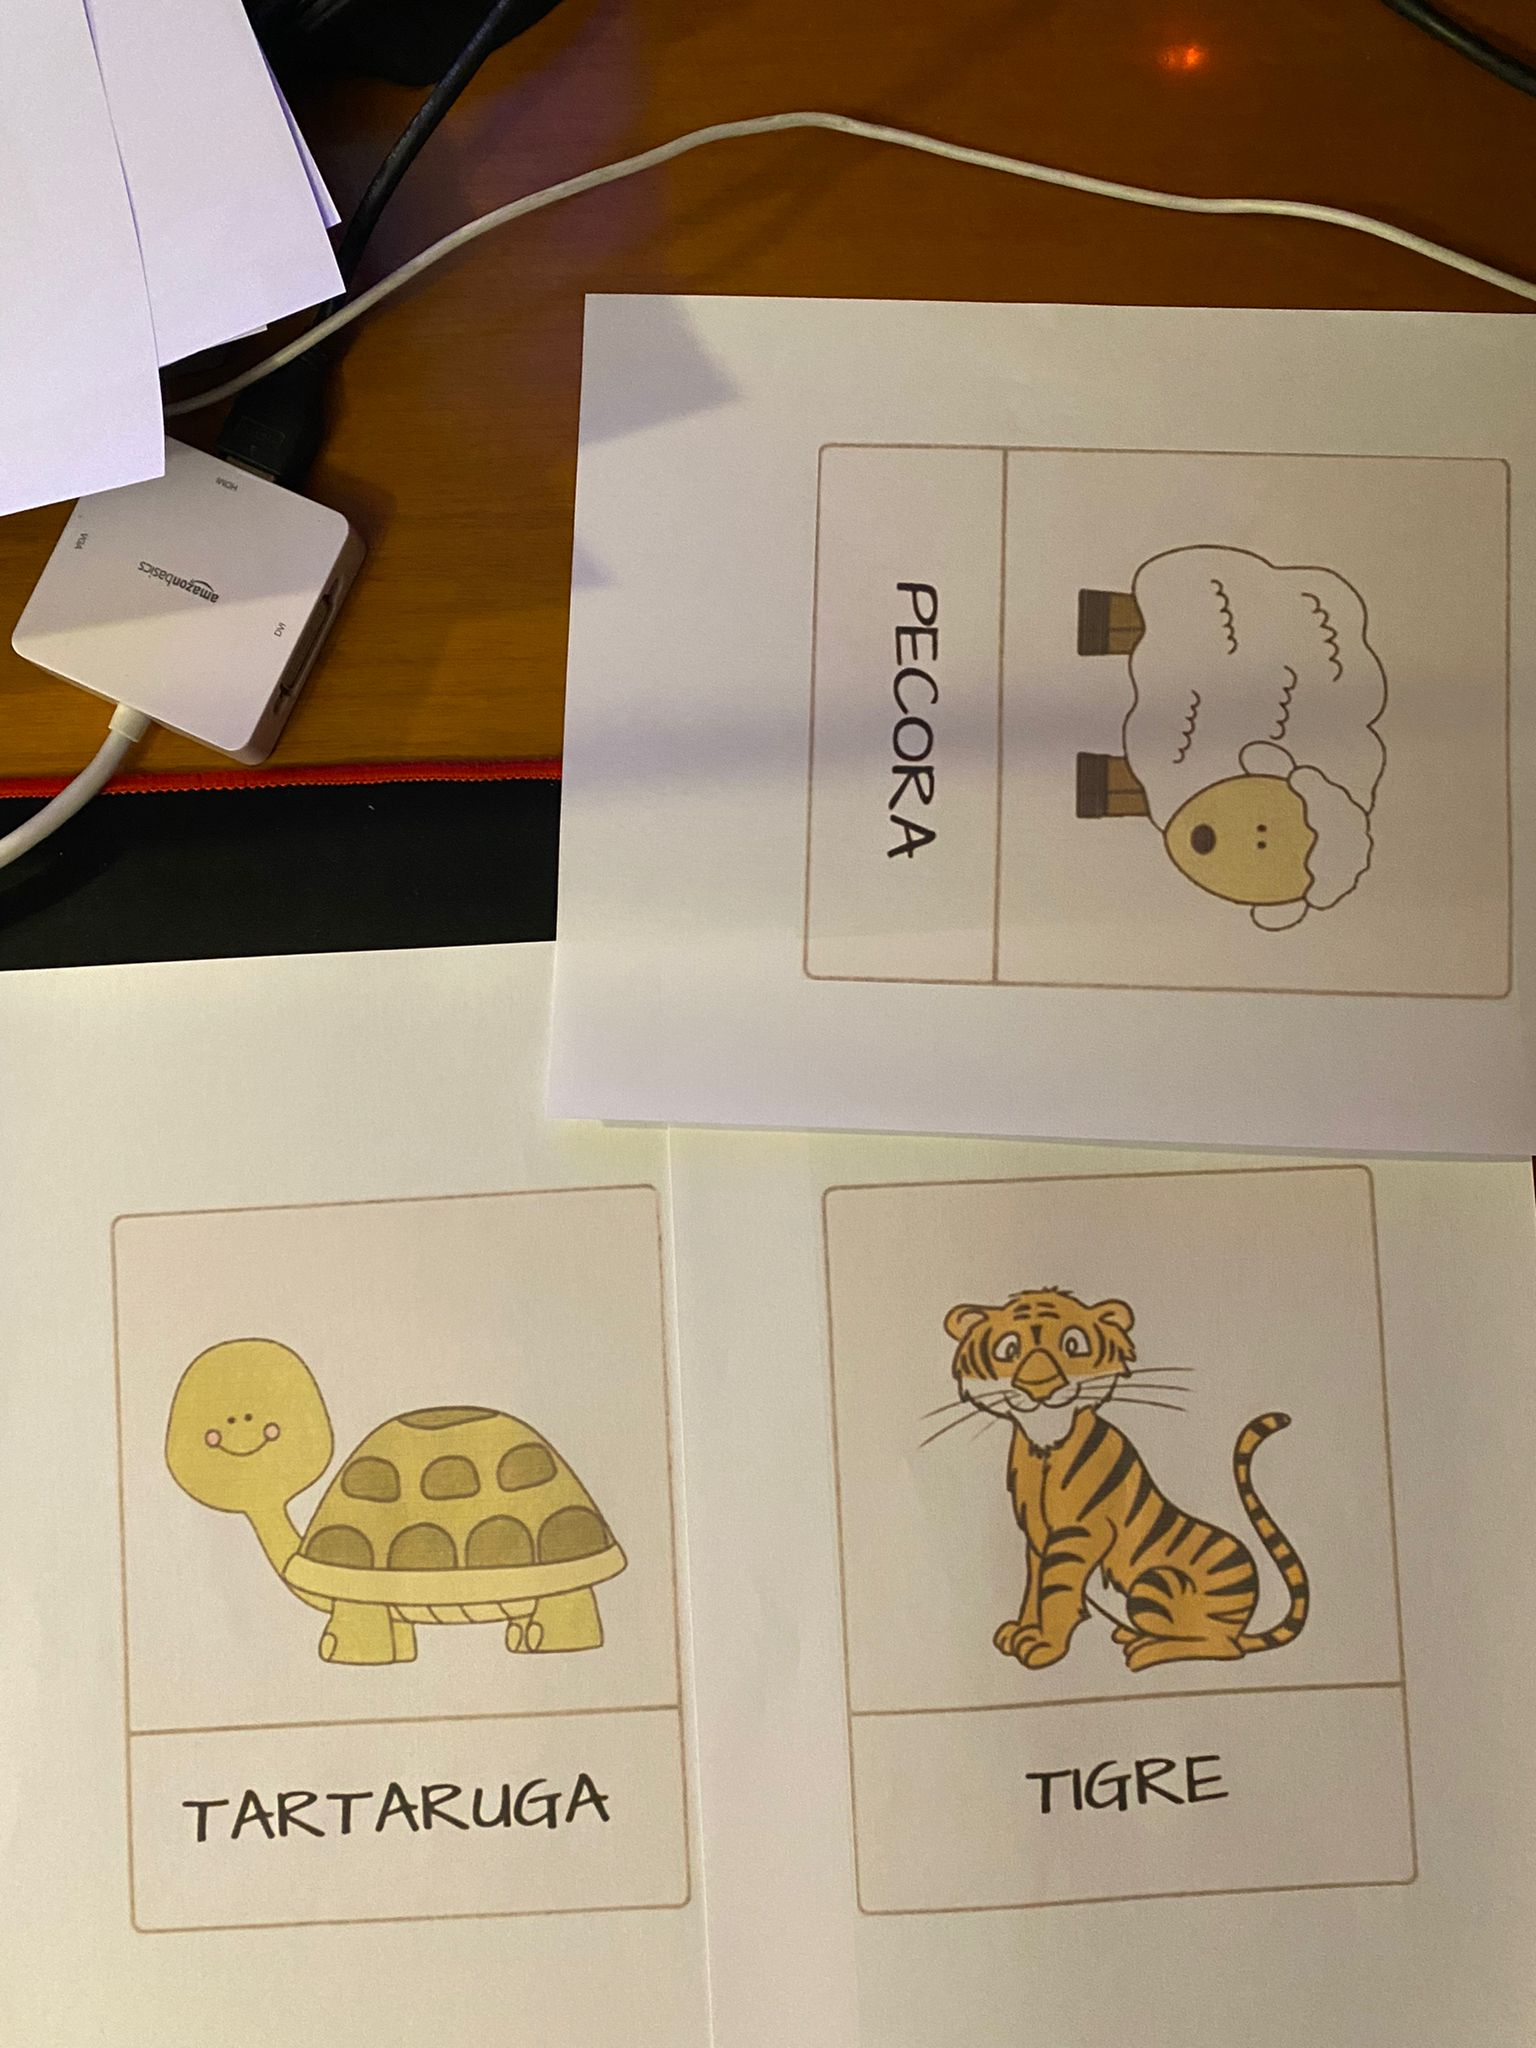pecora: (820, 453, 1491, 992)
tartaruga: (125, 1243, 680, 1887)
tigre: (837, 1202, 1384, 1873)
